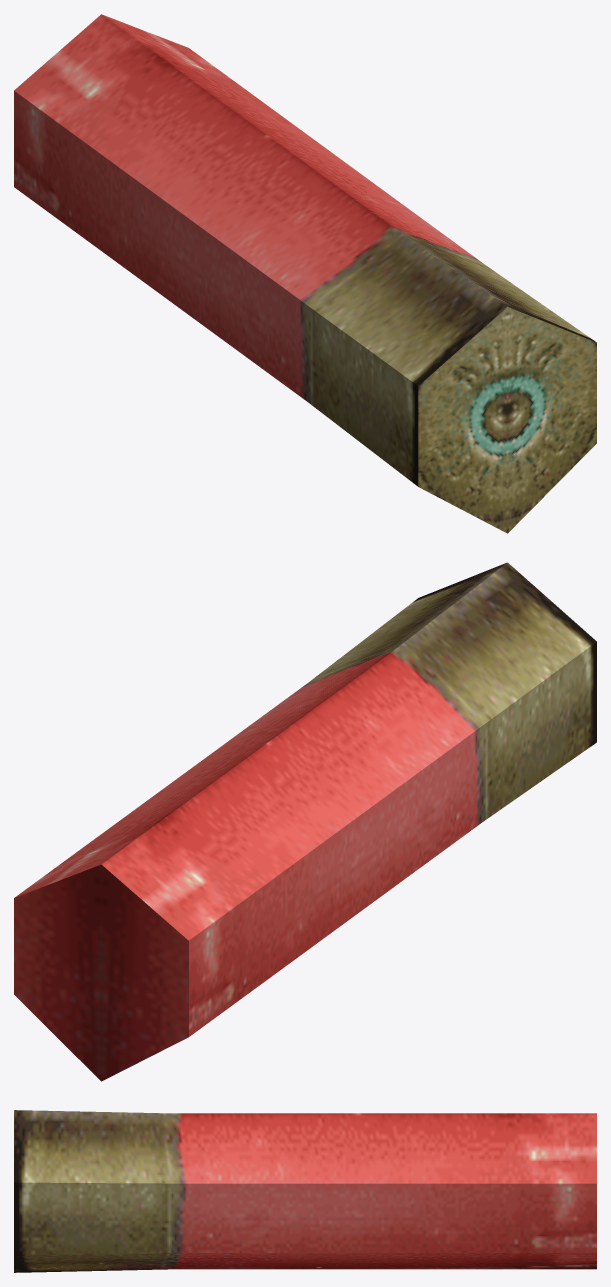
The model's file is casling12g.glb.
3 views of the same model, one above another, from view 1: azimuth 30°, elevation 25°; view 2: azimuth 150°, elevation 25°; view 3: azimuth 270°, elevation 25° (orthographic). The views are drawn at different scales.
Visible parts, largest first — view 1: Shotgun; view 2: Shotgun; view 3: Shotgun.
Part boxes in pixels (x1,y1,x2,y2): Shotgun: [14, 14, 596, 533]; Shotgun: [14, 562, 596, 1081]; Shotgun: [14, 1110, 596, 1272].
Bounding box in the file's own units: 0.0745 × 0.0903 × 0.2933.
1 material, 1 textured.
